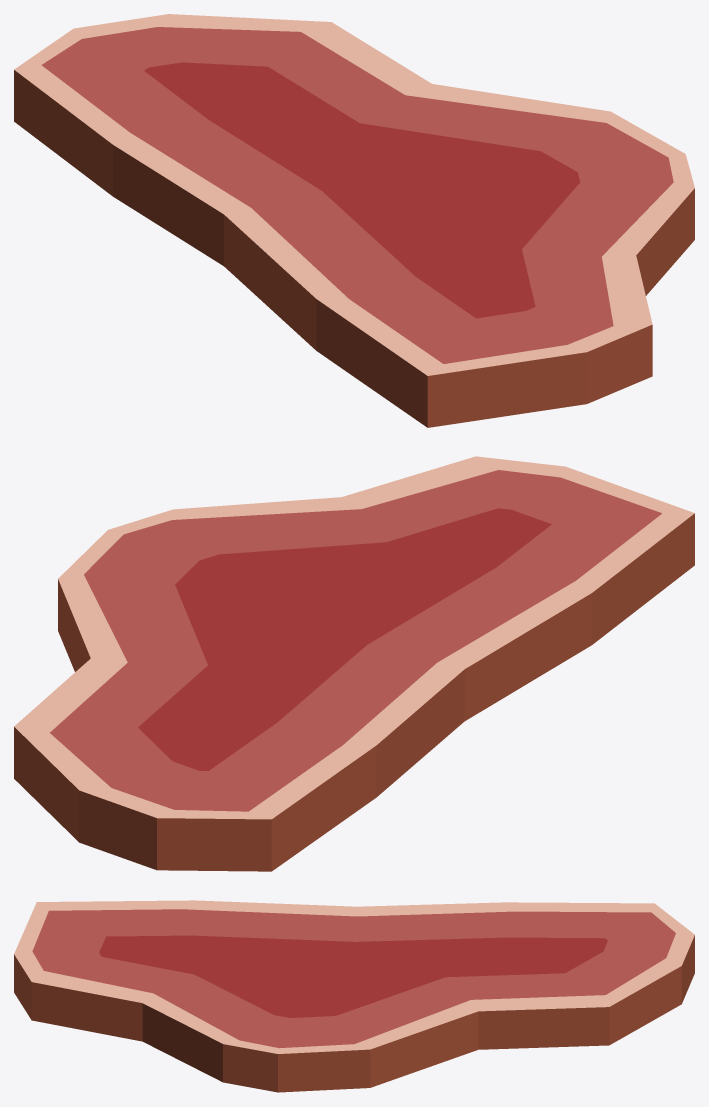
Rendered from SM_Props_Interior_Shop_Butcher_01.fbx.
3 renders of one model, top to bottom at view 1: azimuth 30°, elevation 25°; view 2: azimuth 150°, elevation 25°; view 3: azimuth 270°, elevation 25°, orthographic. The views are drawn at different scales.
Visible parts, largest first — view 1: SM_Props_Interior_Shop_Butcher_01; view 2: SM_Props_Interior_Shop_Butcher_01; view 3: SM_Props_Interior_Shop_Butcher_01.
Part boxes in pixels (bbox=[...]): SM_Props_Interior_Shop_Butcher_01: bbox=[14, 14, 694, 427]; SM_Props_Interior_Shop_Butcher_01: bbox=[14, 456, 694, 871]; SM_Props_Interior_Shop_Butcher_01: bbox=[14, 900, 694, 1092].
Bounding box in the file's own units: 34.31 × 4 × 64.24.
